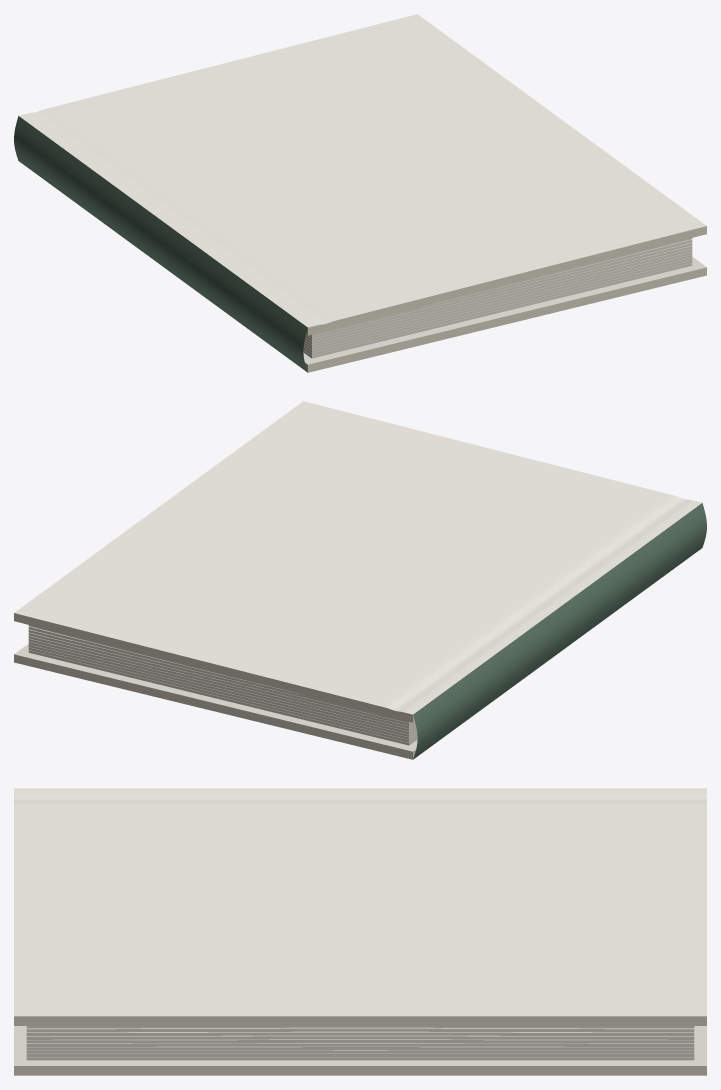
File: hard-40.glb
3 views of the same model, one above another, from view 1: azimuth 30°, elevation 25°; view 2: azimuth 150°, elevation 25°; view 3: azimuth 270°, elevation 25° (orthographic). The views are drawn at different scales.
Visible parts, largest first — view 1: FrontCover, Spine, PaperBlock, BackCover; view 2: FrontCover, Spine, PaperBlock, BackCover; view 3: FrontCover, PaperBlock, BackCover.
Boxes of the visible parts, left/top/right/bottom form: FrontCover: left=19, top=14, right=706, bottom=335; Spine: left=14, top=116, right=307, bottom=372; PaperBlock: left=303, top=238, right=692, bottom=358; BackCover: left=303, top=257, right=706, bottom=372; FrontCover: left=14, top=401, right=701, bottom=722; Spine: left=413, top=503, right=706, bottom=759; PaperBlock: left=28, top=625, right=417, bottom=745; BackCover: left=14, top=644, right=417, bottom=759; FrontCover: left=14, top=788, right=706, bottom=1025; PaperBlock: left=26, top=1026, right=694, bottom=1060; BackCover: left=14, top=1026, right=706, bottom=1075.
Bounding box in the file's own units: 1.97 × 0.231 × 2.45.
